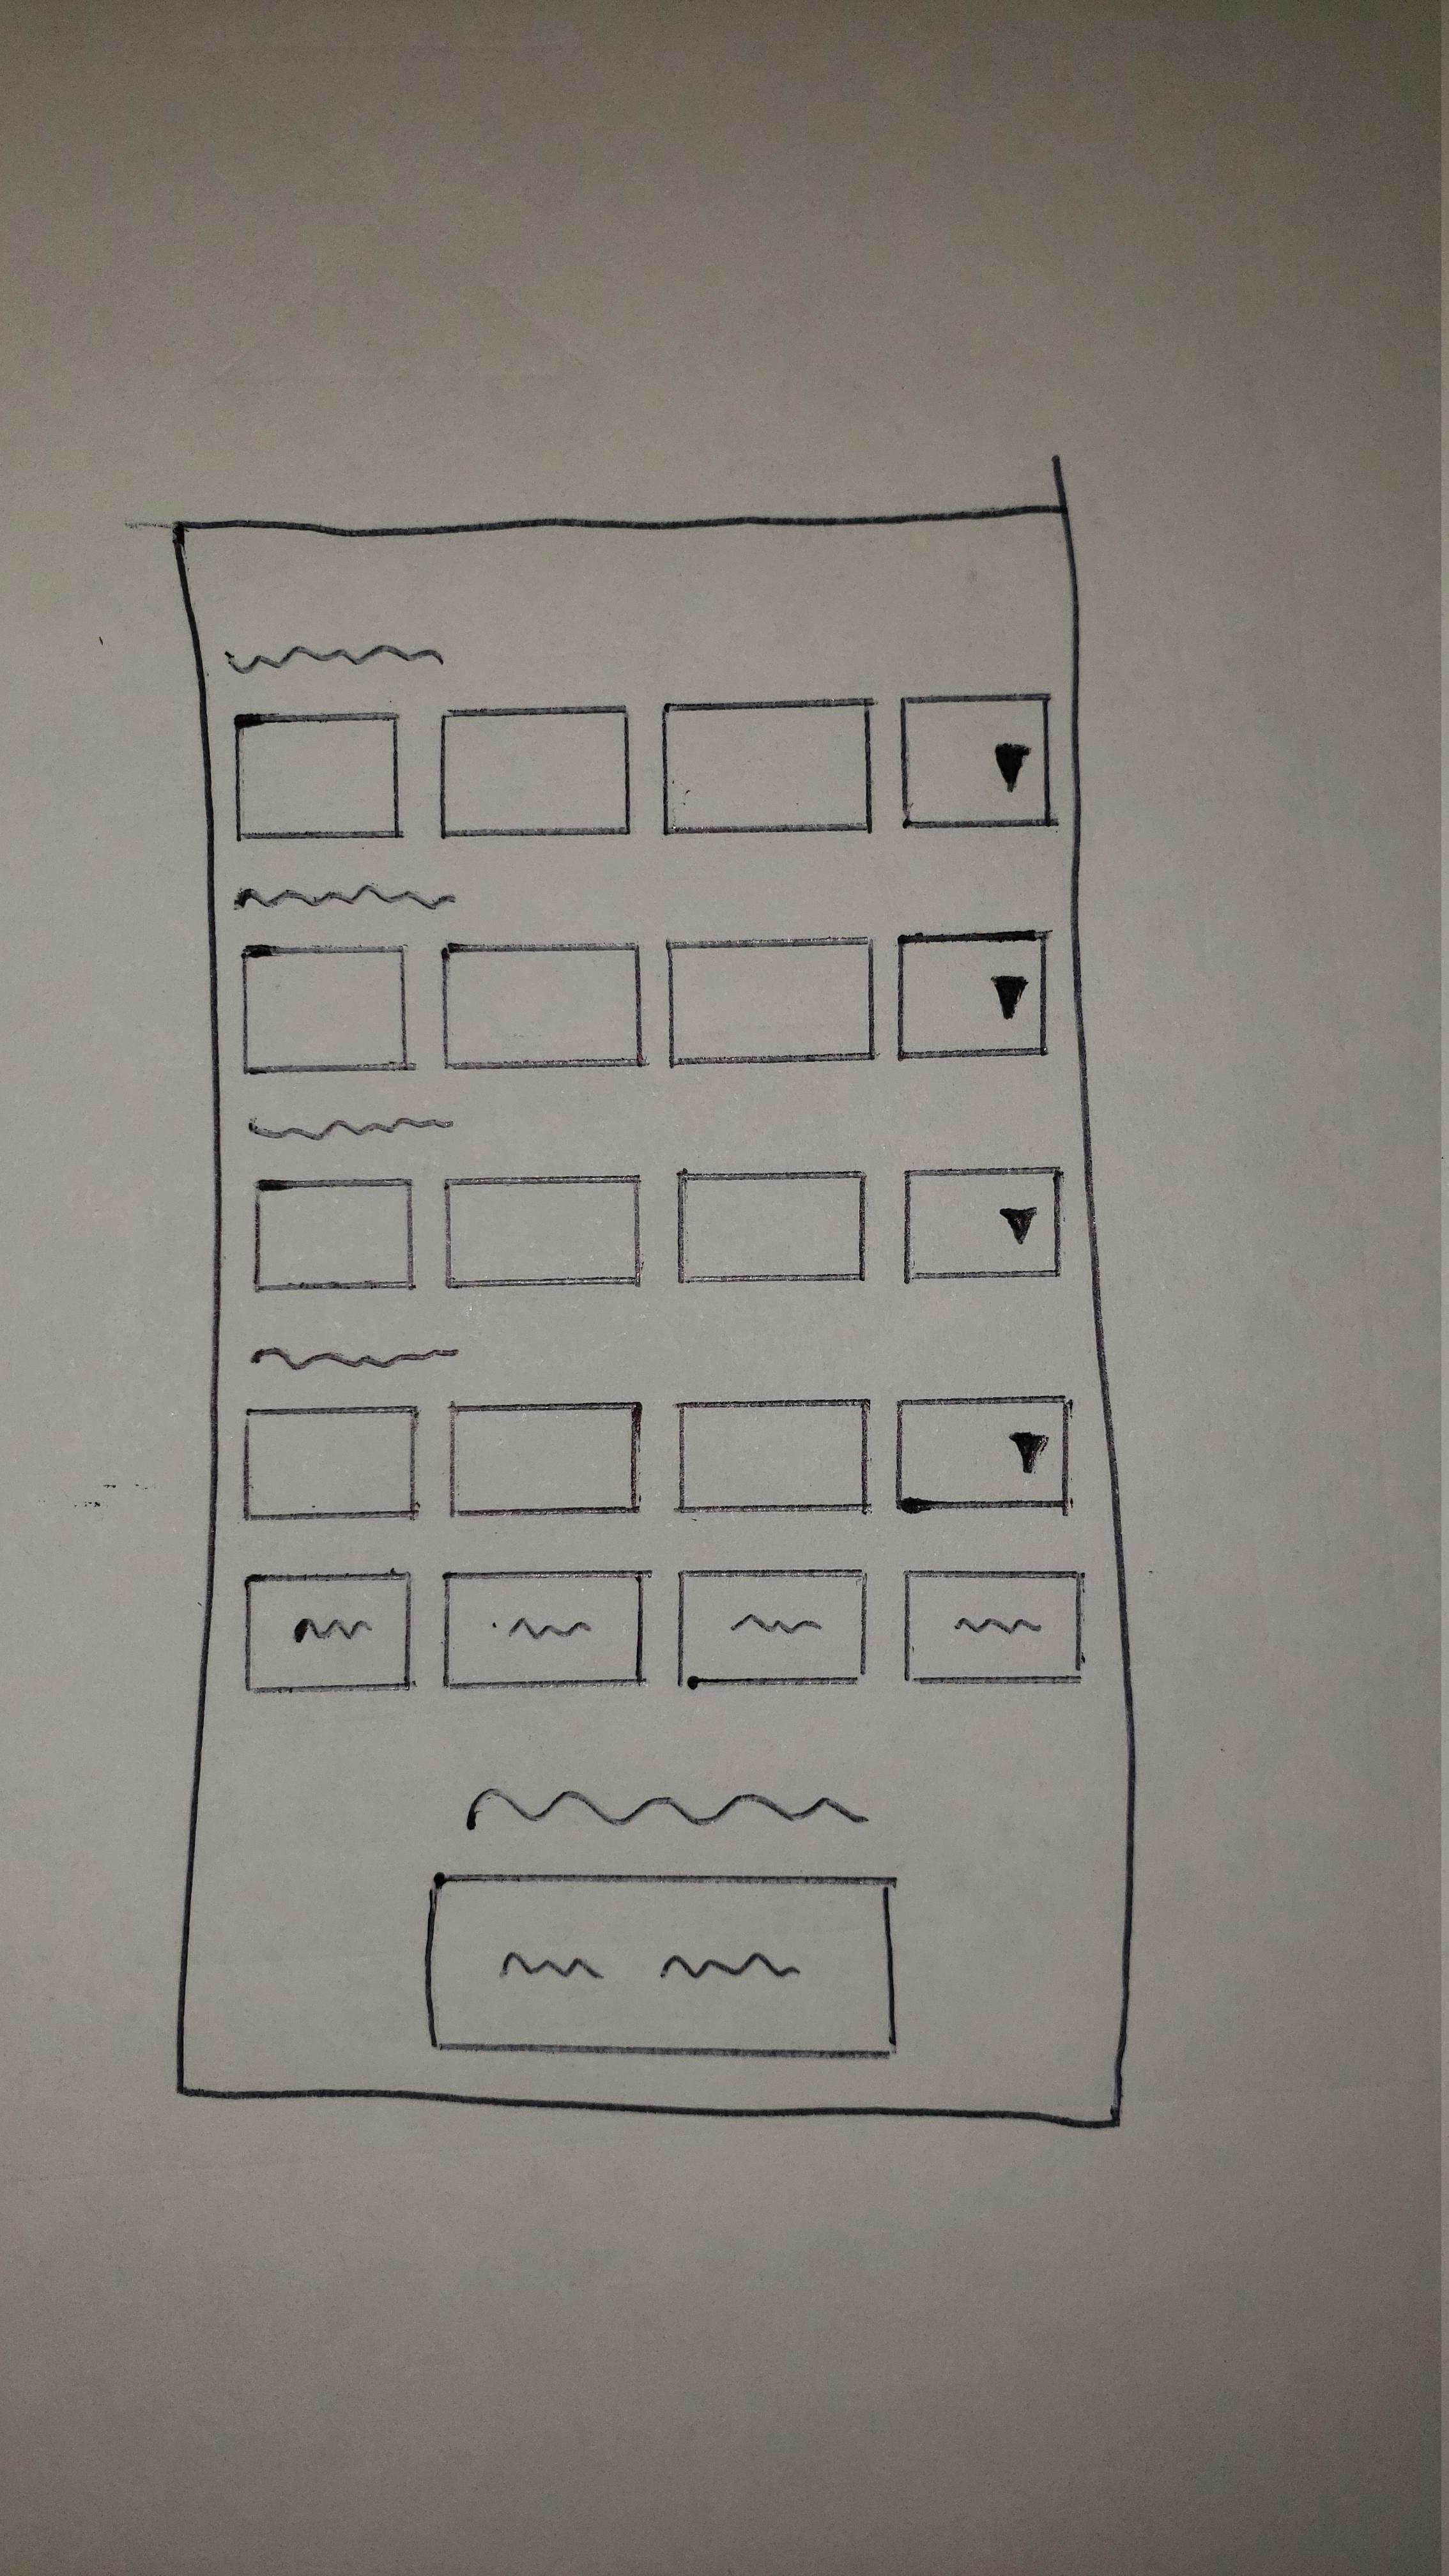Button: (425, 1872, 899, 2061), (442, 1568, 646, 1690), (678, 1568, 869, 1684), (904, 1568, 1085, 1688), (242, 1569, 416, 1693)
Label: (462, 1787, 869, 1831), (223, 637, 446, 674), (235, 881, 458, 913), (248, 1113, 458, 1141), (251, 1345, 458, 1373)
ListPicker: (895, 1396, 1070, 1516), (899, 694, 1053, 828), (897, 929, 1047, 1060), (904, 1169, 1062, 1286)
Screen: (173, 506, 1141, 2128)
TextBox: (662, 699, 874, 835), (665, 939, 878, 1067), (441, 704, 633, 839), (444, 943, 644, 1069), (442, 1177, 644, 1290), (232, 711, 402, 842), (241, 945, 410, 1076), (676, 1401, 869, 1514), (678, 1171, 869, 1283), (449, 1403, 640, 1514), (244, 1408, 418, 1522), (255, 1178, 414, 1293)
